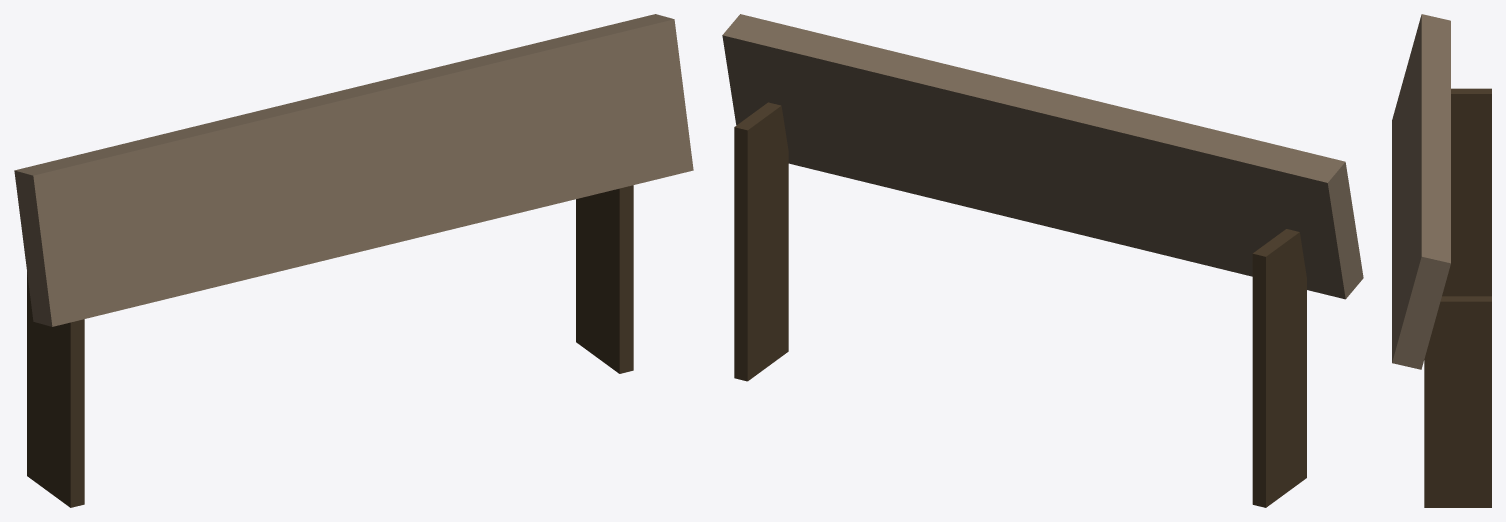
The model's file is PS_Sign02.fbx.
The picture shows the model from 3 angles, left to right: view 1: azimuth 30°, elevation 25°; view 2: azimuth 150°, elevation 25°; view 3: azimuth 270°, elevation 25°; orthographic projection. The views are drawn at different scales.
Parts seen in each view (by area): view 1: PS_Sign02; view 2: PS_Sign02; view 3: PS_Sign02.
Part boxes in pixels (<box>): PS_Sign02: <box>14,14,693,507</box>; PS_Sign02: <box>722,14,1363,507</box>; PS_Sign02: <box>1392,14,1491,507</box>.
Size of the model in its own units: 2.99 by 1.53 by 0.52.
